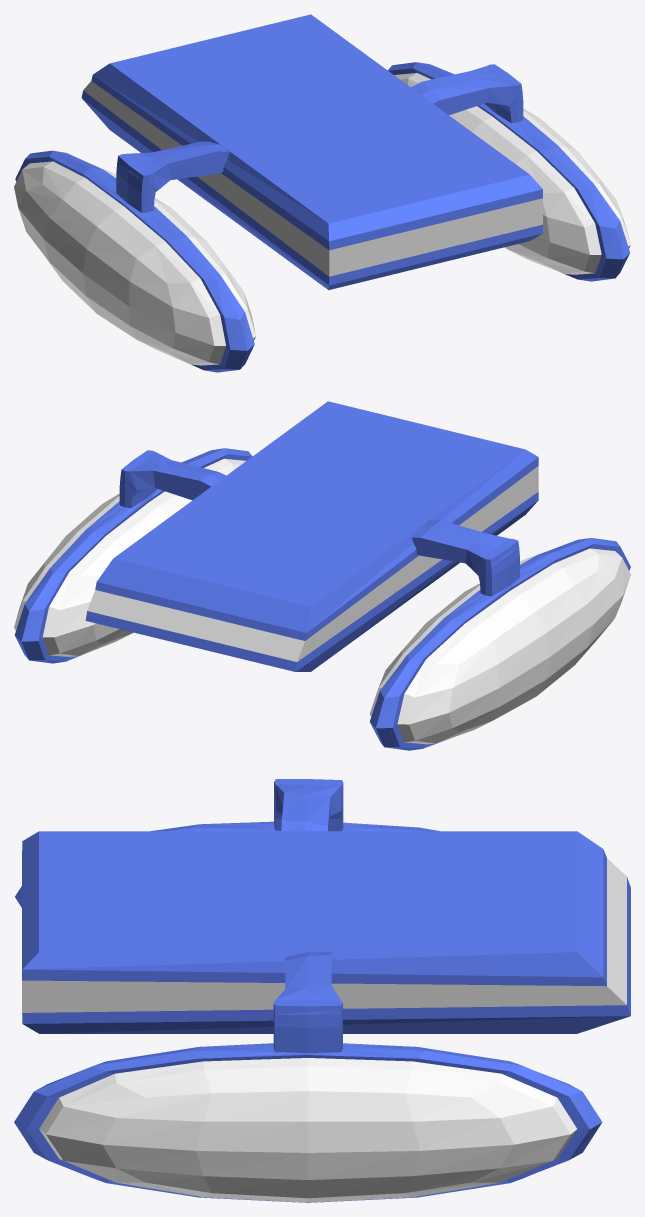
File: Platform_Flying_1.fbx
3 views of the same model, one above another, from view 1: azimuth 30°, elevation 25°; view 2: azimuth 150°, elevation 25°; view 3: azimuth 270°, elevation 25° (orthographic). The views are drawn at different scales.
Parts seen in each view (by area): view 1: group4_pasted__pCube4; view 2: group4_pasted__pCube4; view 3: group4_pasted__pCube4.
Part boxes in pixels (bbox=[...]): group4_pasted__pCube4: bbox=[14, 14, 630, 372]; group4_pasted__pCube4: bbox=[14, 401, 630, 750]; group4_pasted__pCube4: bbox=[14, 779, 630, 1202].
Size of the model in its own units: 13.9 by 4.6 by 12.82.
